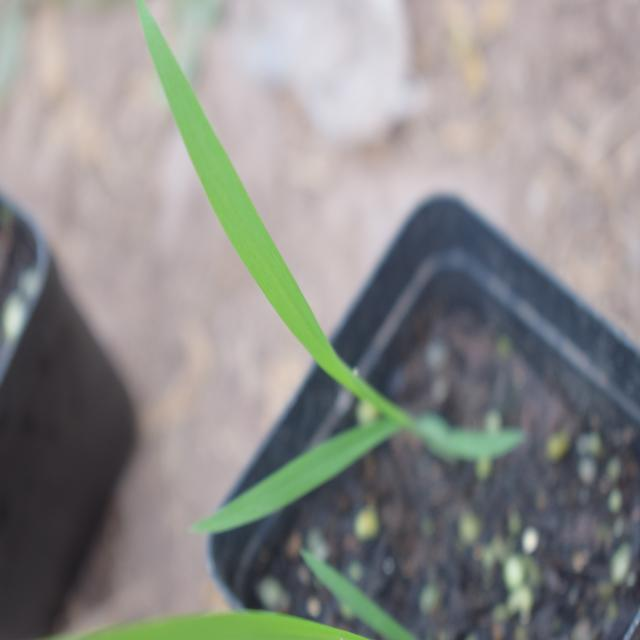crabgrass: (126, 0, 444, 540)
